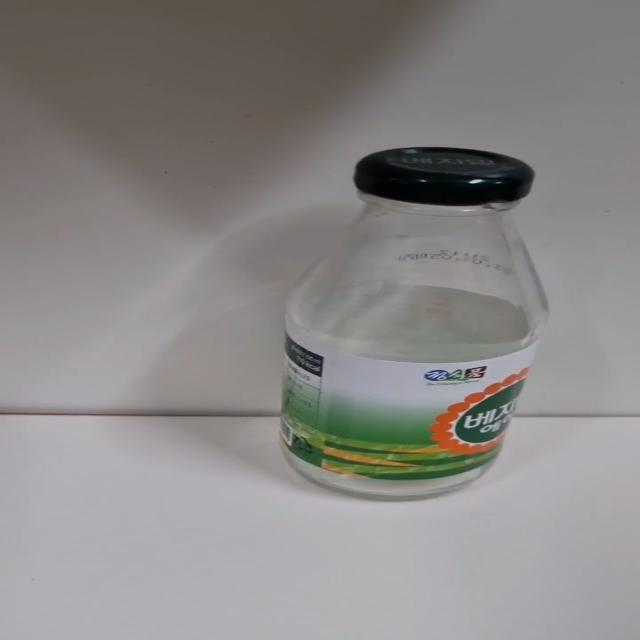Glass: (262, 144, 560, 506)
